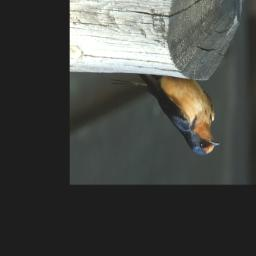Swallow: (108, 74, 221, 155)
